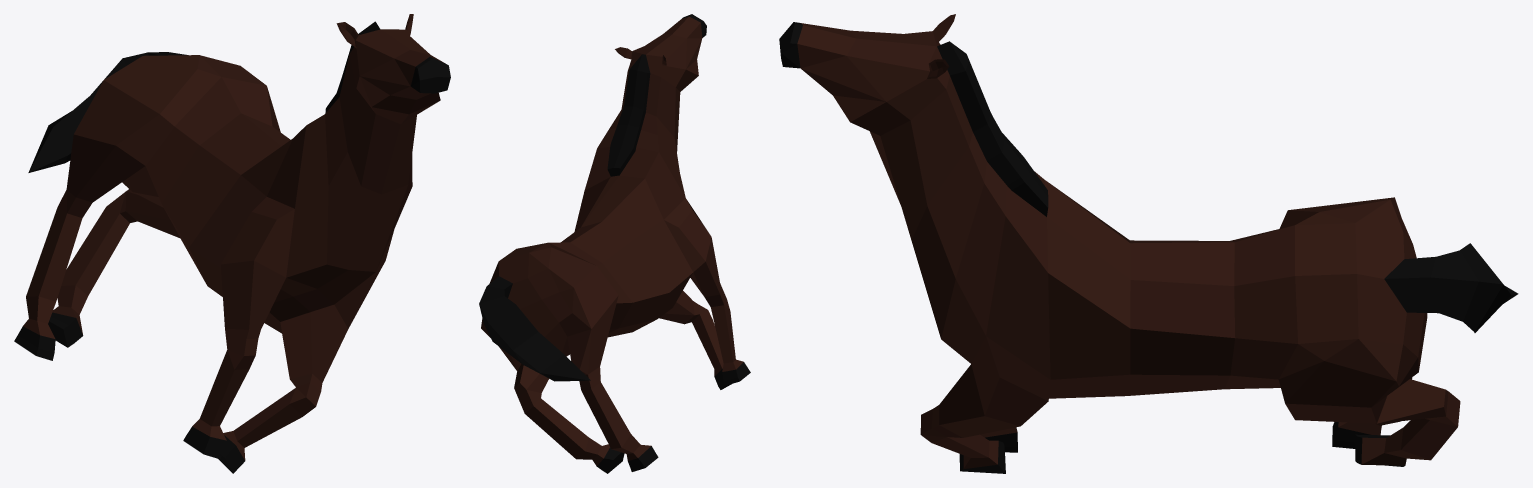
The model's file is Horse_000010.obj.
The picture shows the model from 3 angles, left to right: view 1: azimuth 30°, elevation 25°; view 2: azimuth 150°, elevation 25°; view 3: azimuth 270°, elevation 25°; orthographic projection. The views are drawn at different scales.
Parts seen in each view (by area): view 1: Horse_Cylinder; view 2: Horse_Cylinder; view 3: Horse_Cylinder.
Part boxes in pixels (x1,y1,x2,y2): Horse_Cylinder: [14, 14, 450, 473]; Horse_Cylinder: [479, 14, 750, 473]; Horse_Cylinder: [779, 14, 1518, 473].
Bounding box in the file's own units: 3.86 × 6.86 × 8.75.
